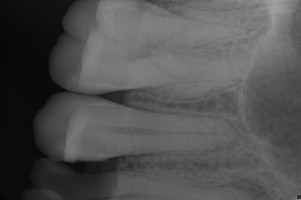Furcation Involvement: (223, 175, 272, 200)
